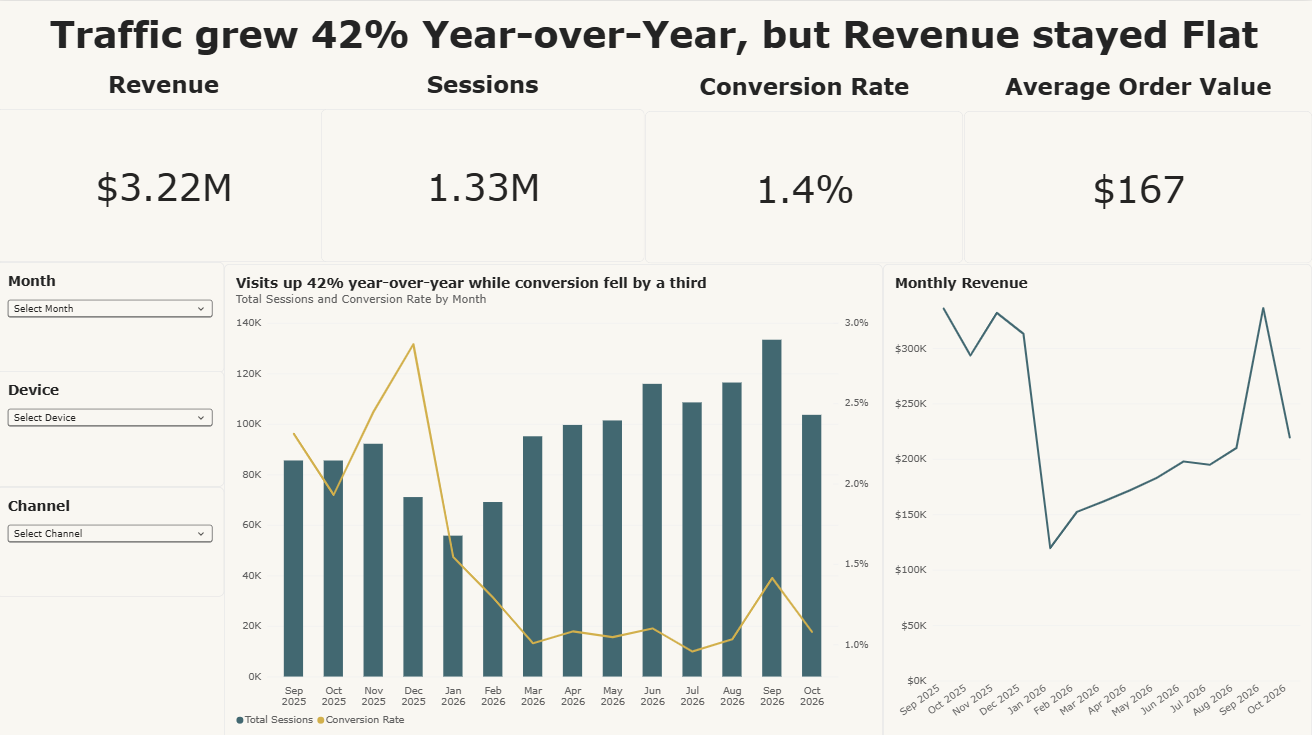

The dashboard page shown, as its layout file describes it:
{"tool":"powerbi","page":{"name":"Overview","canvas":[1920,1080],"ordinal":0},"visuals":[{"type":"cardVisual","title":"Revenue","fields":{"Data":["public traffic.Total Revenue"]},"box":[0,100,488.7,280.4],"z":0},{"type":"cardVisual","title":"Sessions","fields":{"Data":["public traffic.Total Sessions"]},"box":[474.8,100,472,280.4],"z":1},{"type":"cardVisual","title":"Conversion Rate","fields":{"Data":["public traffic.Conversion Rate"]},"box":[946.8,104.1,464.6,279.7],"z":2},{"type":"cardVisual","title":"Average Order Value","fields":{"Data":["public traffic.Avg Order Value"]},"box":[1411.9,104.1,508.1,279],"z":3},{"type":"lineClusteredColumnComboChart","title":"Visits up 42% year-over-year while conversion fell by a third","fields":{"Category":["Calendar.Month"],"Y":["public traffic.Total Sessions"],"Y2":["public traffic.Conversion Rate"]},"box":[333.2,383.2,960.7,696.9],"z":4},{"type":"lineChart","title":"Monthly Revenue","fields":{"Category":["Calendar.Month"],"Y":["public traffic.Total Revenue"]},"box":[1293.9,383.2,626.1,696.9],"z":5},{"type":"listSlicer","fields":{"Values":["Calendar.Month"]},"box":[0,380.4,333.2,162.4],"z":6},{"type":"listSlicer","fields":{"Values":["public traffic.device"]},"box":[0,540,333.2,169.4],"z":7},{"type":"listSlicer","fields":{"Values":["public traffic.channel"]},"box":[0,709.4,333.2,159.7],"z":8},{"type":"textbox","title":"Traffic grew 42% Year-over-Year, but Revenue stayed Flat","box":[0,13.9,1920,73.6],"z":10}]}

Visuals, with their boxes in screenshot pixels (x1, y1, x2, y2), scaled from the page's 1920x1080 canvas onto the 1312x735 screenshot:
"Revenue" cardVisual: [x1=0, y1=68, x2=334, y2=259]
"Sessions" cardVisual: [x1=324, y1=68, x2=647, y2=259]
"Conversion Rate" cardVisual: [x1=647, y1=71, x2=964, y2=261]
"Average Order Value" cardVisual: [x1=965, y1=71, x2=1311, y2=261]
"Visits up 42% year-over-year while conversion fell by a third" lineClusteredColumnComboChart: [x1=228, y1=261, x2=884, y2=734]
"Monthly Revenue" lineChart: [x1=884, y1=261, x2=1311, y2=734]
listSlicer - Calendar.Month: [x1=0, y1=259, x2=228, y2=369]
listSlicer - public traffic.device: [x1=0, y1=368, x2=228, y2=483]
listSlicer - public traffic.channel: [x1=0, y1=483, x2=228, y2=591]
"Traffic grew 42% Year-over-Year, but Revenue stayed Flat" textbox: [x1=0, y1=9, x2=1311, y2=60]
